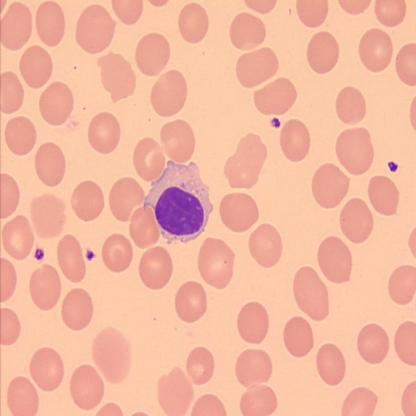Atypical lymphocyte: (145, 159, 213, 243)
